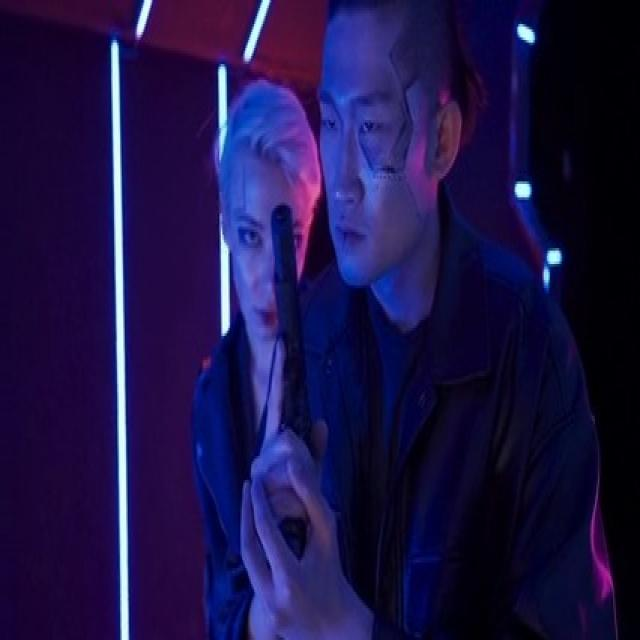Gun_Holder: (248, 198, 346, 630)
Jacket_Wearer: (286, 248, 616, 640)
Person: (292, 0, 618, 640), (193, 82, 326, 630)
